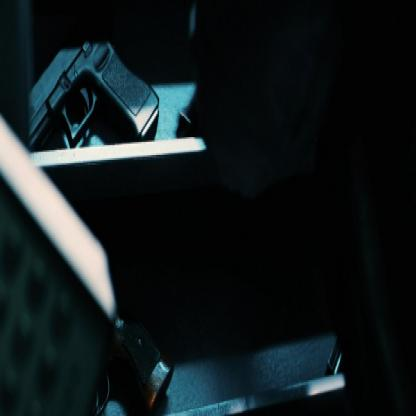Guns: (24, 15, 161, 164), (83, 279, 174, 414)
